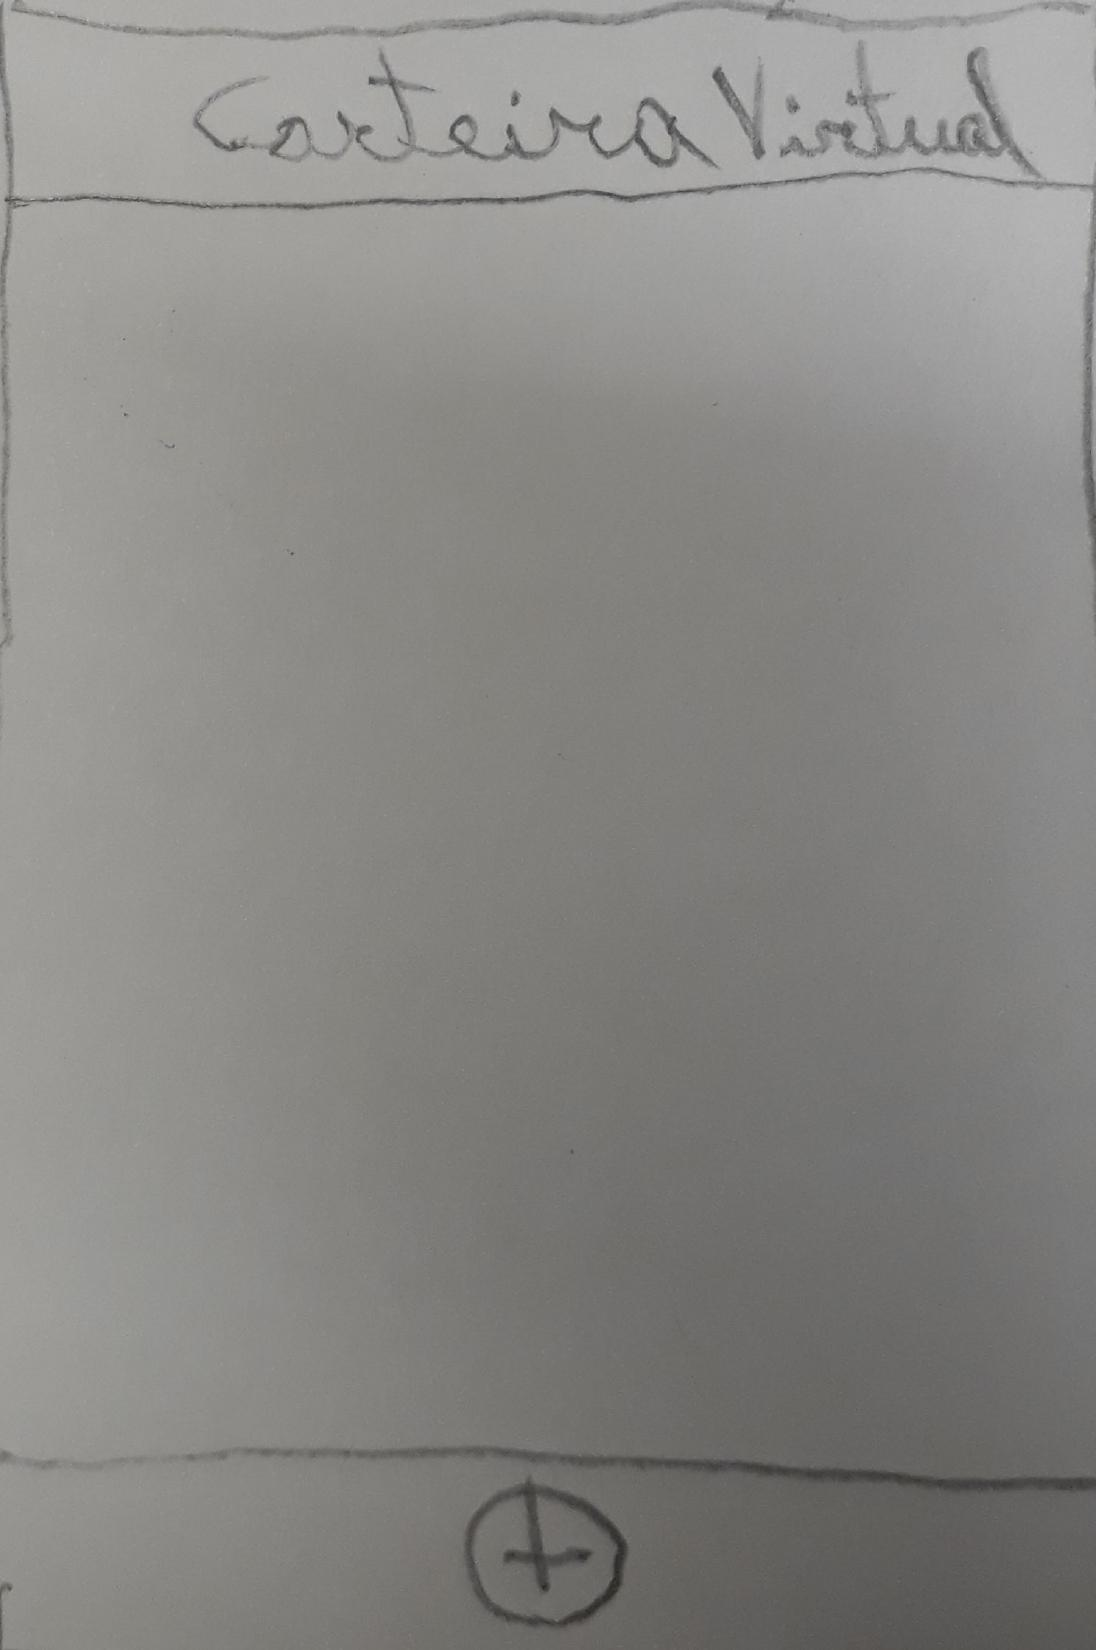Button: (459, 1480, 631, 1627)
Label: (187, 35, 1048, 187)
Screen: (1, 4, 1095, 1646)
